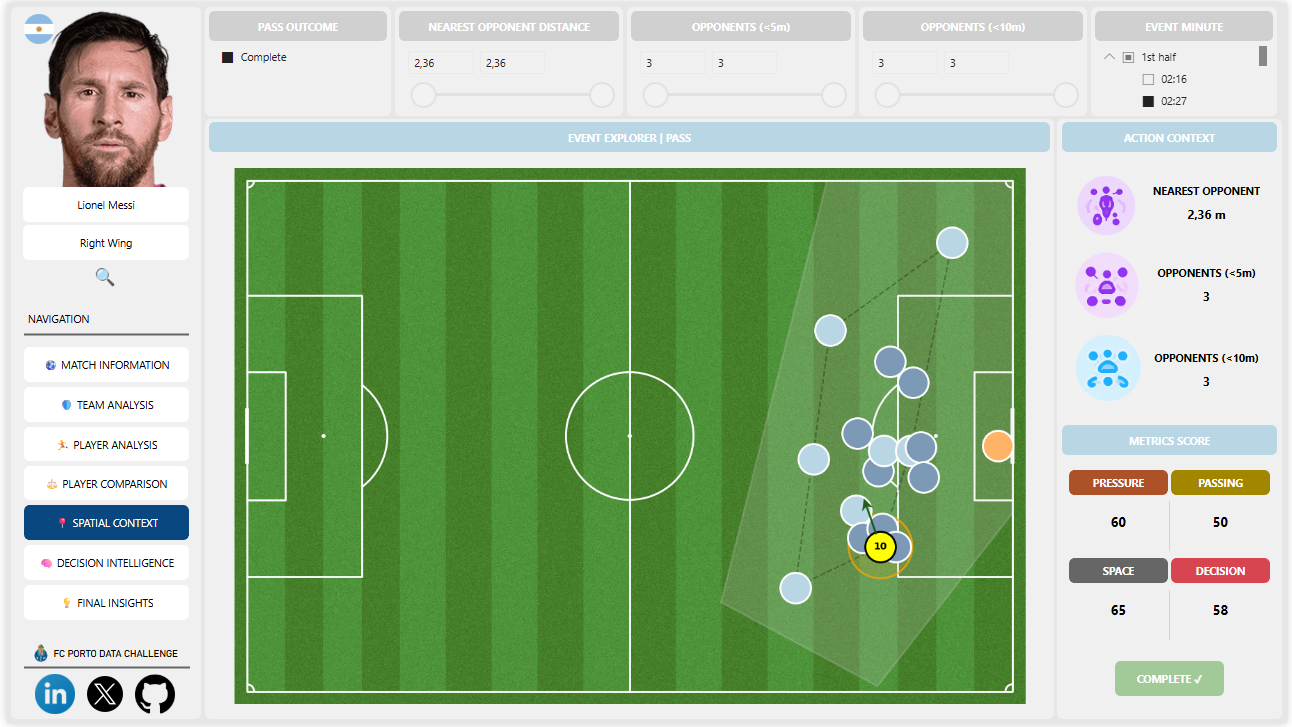

What the dashboard file says about the page in this screenshot:
{"tool":"powerbi","page":{"name":"spatial context","canvas":[1280,720],"ordinal":4},"visuals":[{"type":"shape","box":[4,4,190,712],"z":0},{"type":"actionButton","title":"Botão Ativo Acumulado","box":[16.6,344.1,165,35],"z":1000},{"type":"actionButton","title":"Botão Ativo Acumulado","box":[16.7,383.9,165.7,35],"z":2000},{"type":"actionButton","title":"Botão Ativo Acumulado","box":[17,424,165,34],"z":3000},{"type":"actionButton","title":"Botão Ativo Acumulado","box":[17,463,164,34],"z":4000},{"type":"actionButton","title":"Botão Ativo Acumulado","box":[17,502,165,35],"z":5000},{"type":"shape","box":[16.6,302,165.6,58.9],"z":6000},{"type":"actionButton","title":"Botão Ativo Acumulado","box":[10.1,300,83,30],"z":7000},{"type":"actionButton","title":"Botão Ativo Acumulado","box":[17,542,165,35],"z":8000},{"type":"actionButton","title":"Botão Ativo Acumulado","box":[17,582,165,35],"z":9000},{"type":"shape","box":[17,635,166,59],"z":10000},{"type":"image","box":[28.4,671,40,40],"z":11000},{"type":"image","box":[128.4,671,40,40],"z":12000},{"type":"image","box":[78.4,671,40,40],"z":13000},{"type":"image","box":[4,6,189,185],"z":14000},{"type":"actionButton","title":"Botão Ativo Acumulado","box":[16,184,166,35],"z":15000},{"type":"image","box":[88,264,20,20],"z":16000},{"type":"actionButton","title":"Botão Ativo Acumulado","box":[16,222,166,35],"z":17000},{"type":"image","box":[17,11,30,30],"z":18000},{"type":"shape","box":[198,116,849,600],"z":19000},{"type":"shape","box":[1050,116,225,600],"z":20000},{"type":"actionButton","title":"Botão Ativo Acumulado","box":[1055,119,215,30],"z":21000},{"type":"actionButton","title":"Botão Ativo Acumulado","box":[202,119,841,30],"z":22000},{"type":"pythonVisual","fields":{"Values":["fct_frames.actor","fct_frames.frame_location_x","fct_frames.frame_location_y","fct_frames.teammate","fct_frames.keeper","dim_players.team","fct_frames.visible_area","fct_events.pass_end_x","fct_events.pass_end_y","fct_events.pass_outcome","fct_events.type","dim_players.jersey_number"]},"box":[198,149,849,567],"z":23000},{"type":"actionButton","title":"Botão Ativo Acumulado","box":[1055,422,215,30],"z":24000},{"type":"image","box":[1062,164,75,75],"z":25000},{"type":"image","box":[1062,246,75,75],"z":26000},{"type":"image","box":[1062,329,75,75],"z":27000},{"type":"actionButton","title":"Botão Ativo Acumulado","box":[1141,172,117,30],"z":28000},{"type":"actionButton","title":"Botão Ativo Acumulado","box":[1141,254,117,30],"z":29000},{"type":"actionButton","title":"Botão Ativo Acumulado","box":[1141,339,117,30],"z":30000},{"type":"shape","box":[388,4,228,109],"z":31000},{"type":"shape","box":[198,4,186,109],"z":32000},{"type":"shape","box":[620,4,228,109],"z":33000},{"type":"shape","box":[1084,4,186,109],"z":34000},{"type":"shape","box":[852,4,228,109],"z":35000},{"type":"actionButton","title":"Botão Ativo Acumulado","box":[1088,8,178,30],"z":36000},{"type":"actionButton","title":"Botão Ativo Acumulado","box":[624,8,220,30],"z":37000},{"type":"actionButton","title":"Botão Ativo Acumulado","box":[392,8,220,30],"z":38000},{"type":"actionButton","title":"Botão Ativo Acumulado","box":[856,8,220,30],"z":39000},{"type":"actionButton","title":"Botão Ativo Acumulado","box":[202,8,178,30],"z":40000},{"type":"slicer","fields":{"Values":["fct_events.pass_outcome"]},"box":[202,38,177,77],"z":41000},{"type":"slicer","fields":{"Values":["fct_events.nearest_opponent_distance"]},"box":[388,38,228,77],"z":42000},{"type":"slicer","fields":{"Values":["fct_events.opponents_within_5m"]},"box":[620,38,228,78],"z":43000},{"type":"slicer","fields":{"Values":["fct_events.opponents_within_10m"]},"box":[852,38,228,77],"z":44000},{"type":"slicer","fields":{"Values":["fct_events.match_half_text","fct_events.match_time_final"]},"box":[1084,38,181,77],"z":45000},{"type":"card","title":"asd","fields":{"Values":["Tabela.nearest_opponent_distance_card"]},"box":[1141,189,117,50],"z":46000},{"type":"card","title":"asd","fields":{"Values":["Sum(fct_events.opponents_within_5m)"]},"box":[1141,271,117,50],"z":47000},{"type":"card","title":"asd","fields":{"Values":["Sum(fct_events.opponents_within_10m)"]},"box":[1141,356,117,50],"z":48000},{"type":"actionButton","title":"Botão Ativo Acumulado","box":[1062,467,99,25],"z":49000},{"type":"actionButton","title":"Botão Ativo Acumulado","box":[1164,467,99,25],"z":50000},{"type":"actionButton","title":"Botão Ativo Acumulado","box":[1062,555,99,25],"z":51000},{"type":"actionButton","title":"Botão Ativo Acumulado","box":[1164,555,99,25],"z":52000},{"type":"card","title":"asd","fields":{"Values":["Sum(fct_events.receiver_pressure_score)"]},"box":[1062,492,99,59],"z":53000},{"type":"card","title":"asd","fields":{"Values":["Sum(fct_events.passing_options_difficulty_score)"]},"box":[1164,492,99,59],"z":54000},{"type":"card","title":"asd","fields":{"Values":["Sum(fct_events.space_difficulty_score)"]},"box":[1062,580,99,59],"z":55000},{"type":"card","title":"asd","fields":{"Values":["Sum(fct_events.decision_difficulty_score)"]},"box":[1164,580,99,59],"z":56000},{"type":"shape","box":[1138,498,49,50],"z":57000},{"type":"shape","box":[1138,587,49,50],"z":58000},{"type":"actionButton","title":"Botão Ativo Acumulado","box":[1108,658,109,35],"z":59000},{"type":"actionButton","title":"Botão Ativo Acumulado","box":[37,635,143,30],"z":61000},{"type":"image","box":[25,641,18,18],"z":62000}]}

Visuals, with their boxes in screenshot pixels (x1, y1, x2, y2), scaled from the page's 1280x720 canvas onto the 1292x727 screenshot:
shape: [left=4, top=4, right=196, bottom=723]
"Botão Ativo Acumulado" actionButton: [left=17, top=347, right=183, bottom=383]
"Botão Ativo Acumulado" actionButton: [left=17, top=388, right=184, bottom=423]
"Botão Ativo Acumulado" actionButton: [left=17, top=428, right=184, bottom=462]
"Botão Ativo Acumulado" actionButton: [left=17, top=468, right=183, bottom=502]
"Botão Ativo Acumulado" actionButton: [left=17, top=507, right=184, bottom=542]
shape: [left=17, top=305, right=184, bottom=364]
"Botão Ativo Acumulado" actionButton: [left=10, top=303, right=94, bottom=333]
"Botão Ativo Acumulado" actionButton: [left=17, top=547, right=184, bottom=583]
"Botão Ativo Acumulado" actionButton: [left=17, top=588, right=184, bottom=623]
shape: [left=17, top=641, right=185, bottom=701]
image: [left=29, top=678, right=69, bottom=718]
image: [left=130, top=678, right=170, bottom=718]
image: [left=79, top=678, right=120, bottom=718]
image: [left=4, top=6, right=195, bottom=193]
"Botão Ativo Acumulado" actionButton: [left=16, top=186, right=184, bottom=221]
image: [left=89, top=267, right=109, bottom=287]
"Botão Ativo Acumulado" actionButton: [left=16, top=224, right=184, bottom=259]
image: [left=17, top=11, right=47, bottom=41]
shape: [left=200, top=117, right=1057, bottom=723]
shape: [left=1060, top=117, right=1287, bottom=723]
"Botão Ativo Acumulado" actionButton: [left=1065, top=120, right=1282, bottom=150]
"Botão Ativo Acumulado" actionButton: [left=204, top=120, right=1053, bottom=150]
pythonVisual - fct_frames.actor x fct_frames.frame_location_x: [left=200, top=150, right=1057, bottom=723]
"Botão Ativo Acumulado" actionButton: [left=1065, top=426, right=1282, bottom=456]
image: [left=1072, top=166, right=1148, bottom=241]
image: [left=1072, top=248, right=1148, bottom=324]
image: [left=1072, top=332, right=1148, bottom=408]
"Botão Ativo Acumulado" actionButton: [left=1152, top=174, right=1270, bottom=204]
"Botão Ativo Acumulado" actionButton: [left=1152, top=256, right=1270, bottom=287]
"Botão Ativo Acumulado" actionButton: [left=1152, top=342, right=1270, bottom=373]
shape: [left=392, top=4, right=622, bottom=114]
shape: [left=200, top=4, right=388, bottom=114]
shape: [left=626, top=4, right=856, bottom=114]
shape: [left=1094, top=4, right=1282, bottom=114]
shape: [left=860, top=4, right=1090, bottom=114]
"Botão Ativo Acumulado" actionButton: [left=1098, top=8, right=1278, bottom=38]
"Botão Ativo Acumulado" actionButton: [left=630, top=8, right=852, bottom=38]
"Botão Ativo Acumulado" actionButton: [left=396, top=8, right=618, bottom=38]
"Botão Ativo Acumulado" actionButton: [left=864, top=8, right=1086, bottom=38]
"Botão Ativo Acumulado" actionButton: [left=204, top=8, right=384, bottom=38]
slicer - fct_events.pass_outcome: [left=204, top=38, right=383, bottom=116]
slicer - fct_events.nearest_opponent_distance: [left=392, top=38, right=622, bottom=116]
slicer - fct_events.opponents_within_5m: [left=626, top=38, right=856, bottom=117]
slicer - fct_events.opponents_within_10m: [left=860, top=38, right=1090, bottom=116]
slicer - fct_events.match_half_text x fct_events.match_time_final: [left=1094, top=38, right=1277, bottom=116]
"asd" card: [left=1152, top=191, right=1270, bottom=241]
"asd" card: [left=1152, top=274, right=1270, bottom=324]
"asd" card: [left=1152, top=359, right=1270, bottom=410]
"Botão Ativo Acumulado" actionButton: [left=1072, top=472, right=1172, bottom=497]
"Botão Ativo Acumulado" actionButton: [left=1175, top=472, right=1275, bottom=497]
"Botão Ativo Acumulado" actionButton: [left=1072, top=560, right=1172, bottom=586]
"Botão Ativo Acumulado" actionButton: [left=1175, top=560, right=1275, bottom=586]
"asd" card: [left=1072, top=497, right=1172, bottom=556]
"asd" card: [left=1175, top=497, right=1275, bottom=556]
"asd" card: [left=1072, top=586, right=1172, bottom=645]
"asd" card: [left=1175, top=586, right=1275, bottom=645]
shape: [left=1149, top=503, right=1198, bottom=553]
shape: [left=1149, top=593, right=1198, bottom=643]
"Botão Ativo Acumulado" actionButton: [left=1118, top=664, right=1228, bottom=700]
"Botão Ativo Acumulado" actionButton: [left=37, top=641, right=182, bottom=671]
image: [left=25, top=647, right=43, bottom=665]
